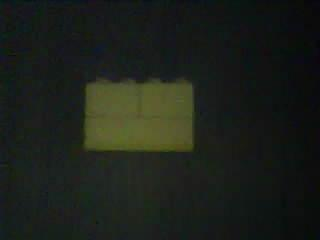lego: (83, 76, 196, 154)
